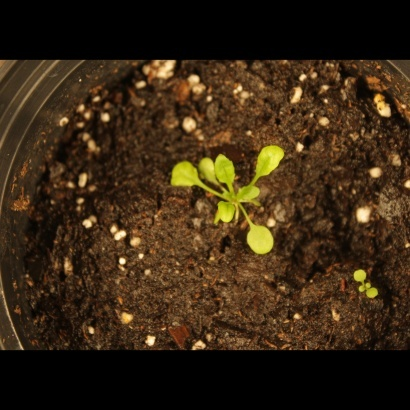leaf: (245, 217, 280, 260), (163, 156, 203, 192), (254, 143, 288, 180), (213, 152, 239, 186), (209, 198, 237, 227), (197, 154, 220, 187), (237, 184, 264, 207), (346, 260, 369, 283), (367, 287, 390, 310)
